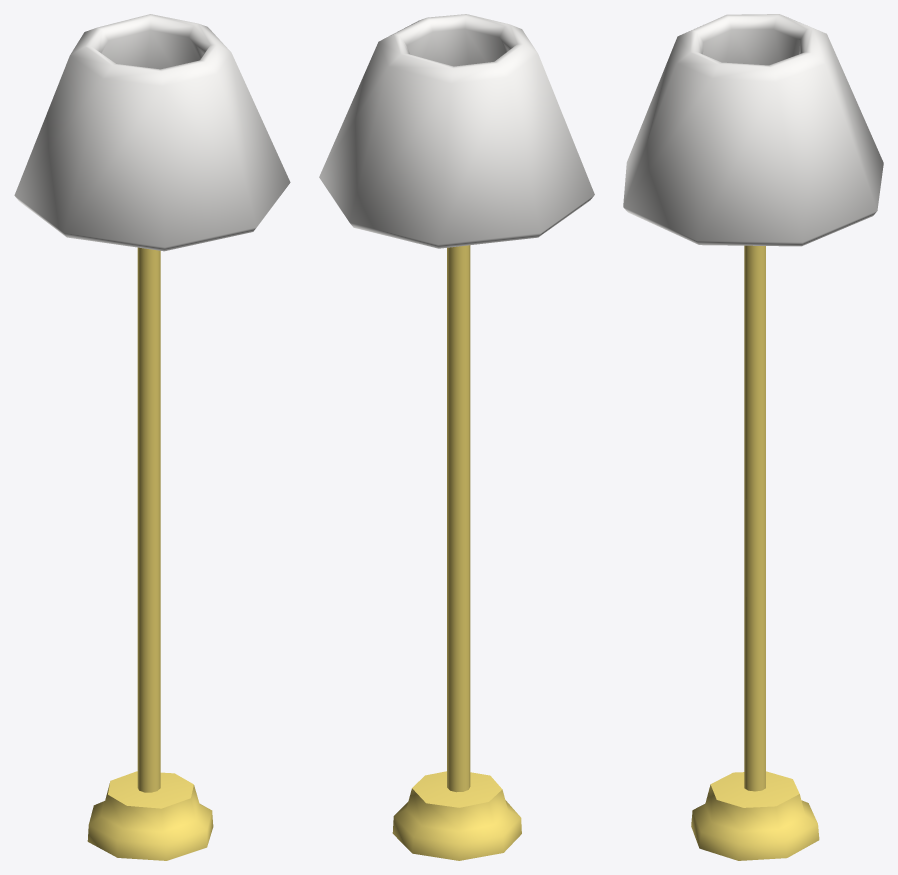
The model's file is Lamp_Floor_White.fbx.
The picture shows the model from 3 angles, left to right: view 1: azimuth 30°, elevation 25°; view 2: azimuth 150°, elevation 25°; view 3: azimuth 270°, elevation 25°; orthographic projection.
Visible parts, largest first — view 1: Lamp_Floor_White; view 2: Lamp_Floor_White; view 3: Lamp_Floor_White.
Part boxes in pixels (x1,y1,x2,y2): Lamp_Floor_White: [14, 14, 290, 860]; Lamp_Floor_White: [319, 14, 594, 860]; Lamp_Floor_White: [623, 14, 883, 860].
Bounding box in the file's own units: 358 × 1198 × 356.
